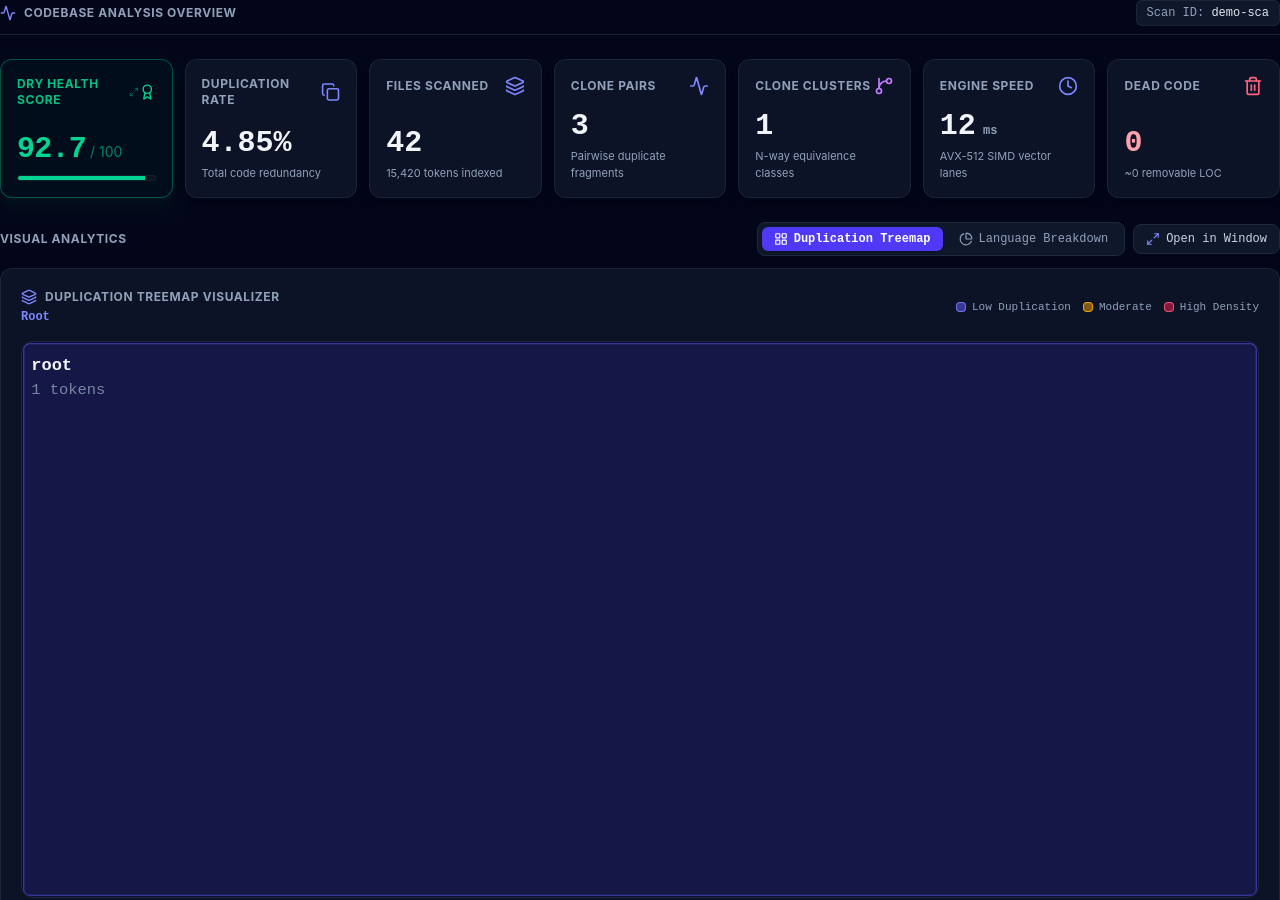
it: ScanResults Component › should open TreemapExplorerModal when clicking Open in Window on Treemap
The width and height of the screenshot is (1280, 900).
Click the button "Open in Window". click: (1207, 239)
box: [1133, 224, 1279, 254]
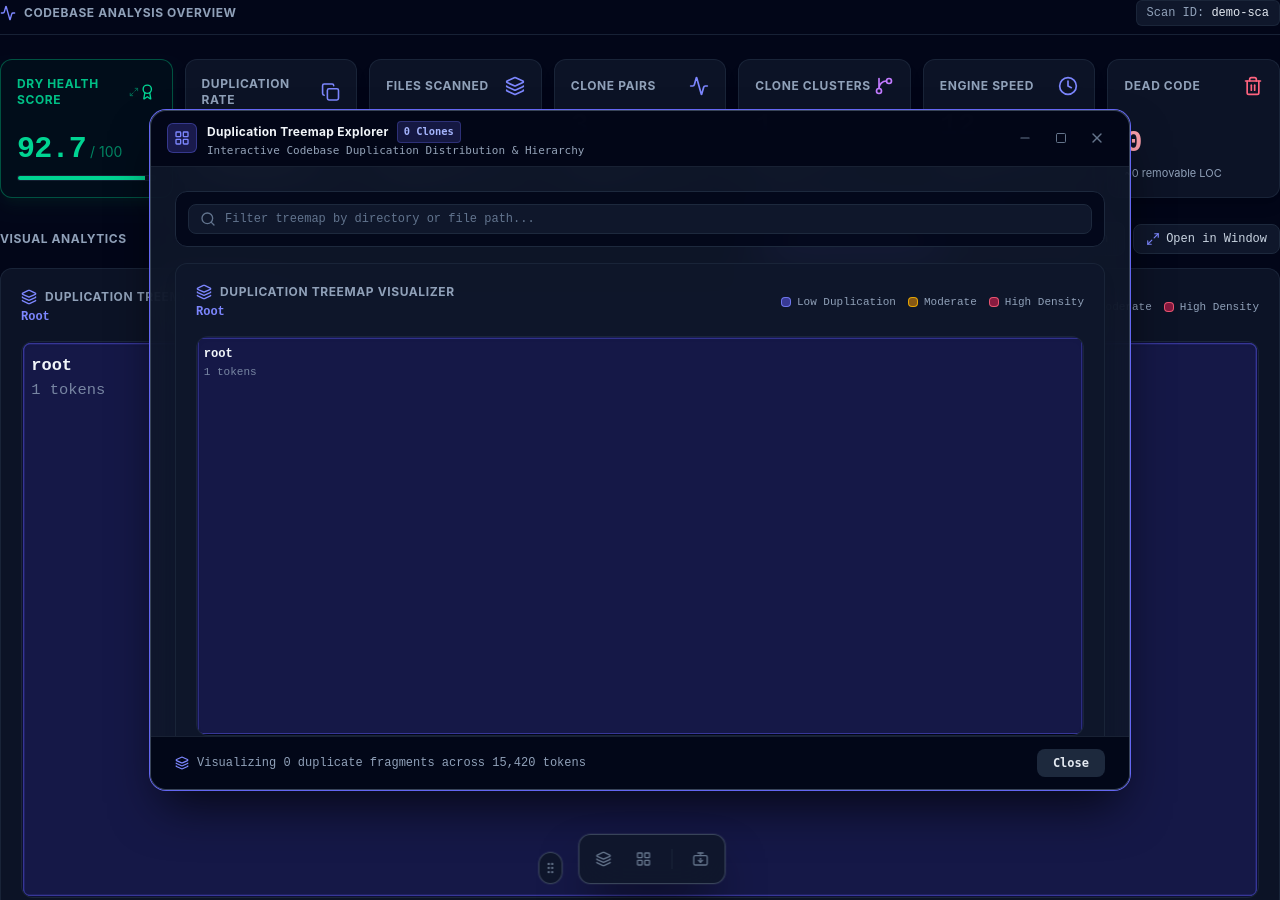
Now the heading "Duplication Treemap Explorer" is shown, box [207, 123, 389, 141]
